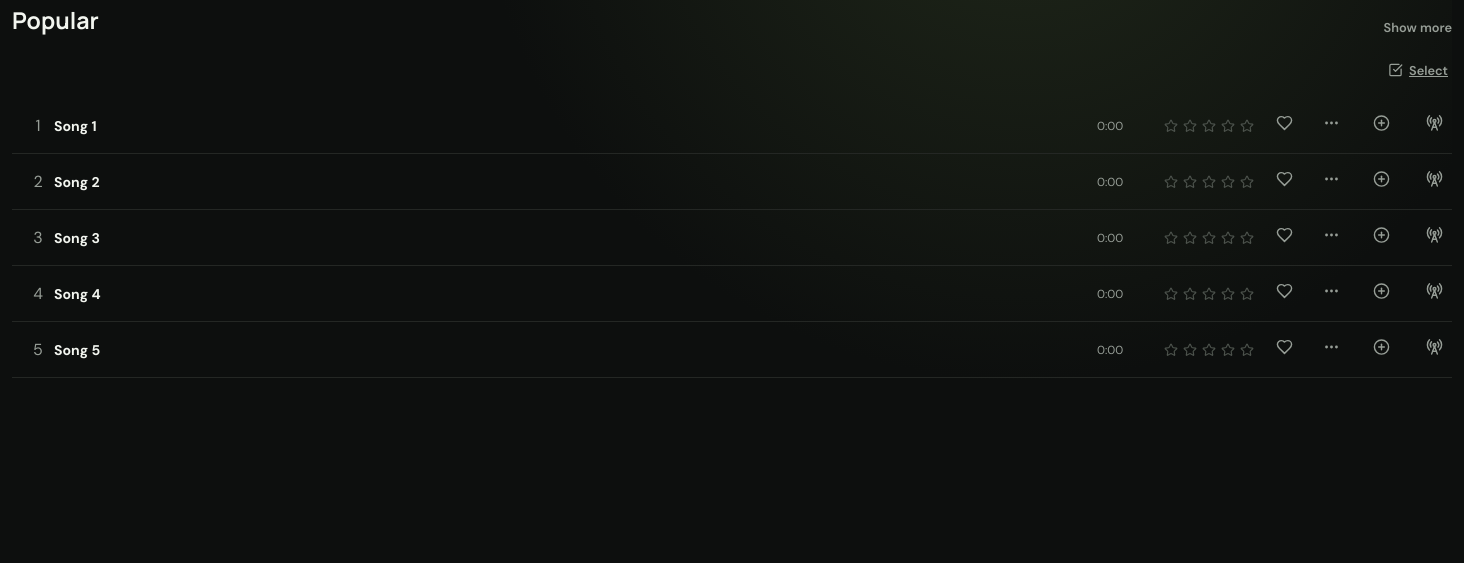
Test: artist page extras › lists five popular songs and shows the rest on request
Expected: the text "Song 5" is shown, [54, 340, 100, 358]
Expected: the text "Song 6" is not shown
Click the button "Show more" at (1418, 28), box [1384, 15, 1452, 40]
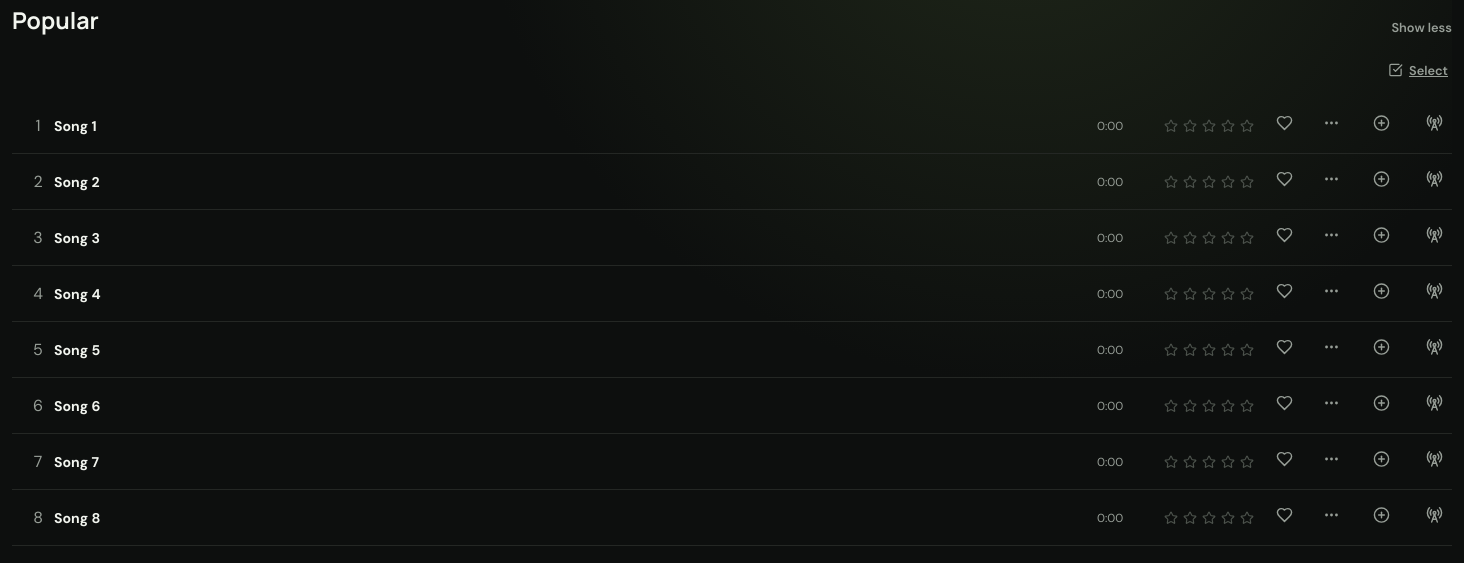
Expected: the text "Song 8" is shown, [54, 508, 100, 526]
